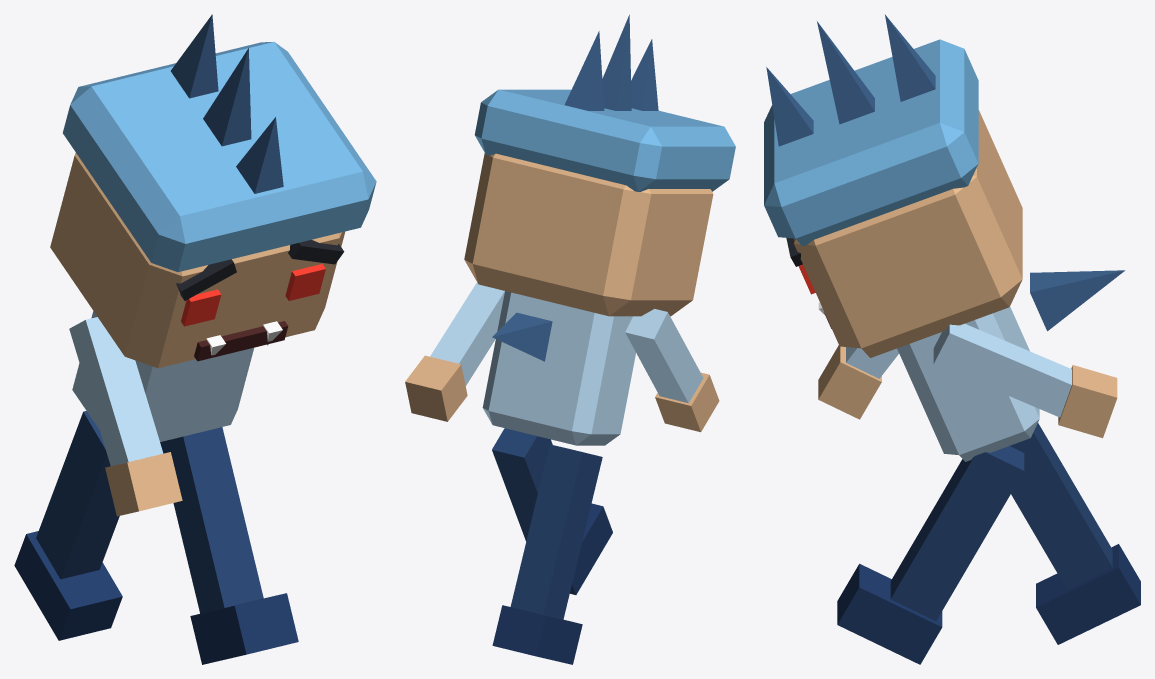
The model's file is scout_r2.glb.
The picture shows the model from 3 angles, left to right: view 1: azimuth 30°, elevation 25°; view 2: azimuth 150°, elevation 25°; view 3: azimuth 270°, elevation 25°; orthographic projection. The views are drawn at different scales.
Visible parts, largest first — view 1: scout_r2_mesh; view 2: scout_r2_mesh; view 3: scout_r2_mesh.
Part boxes in pixels (x1,y1,x2,y2): scout_r2_mesh: [14, 14, 376, 664]; scout_r2_mesh: [405, 14, 735, 664]; scout_r2_mesh: [764, 14, 1140, 664].
Size of the model in its own units: 0.4023 by 1.2 by 0.6453.
1 material, 1 textured.
